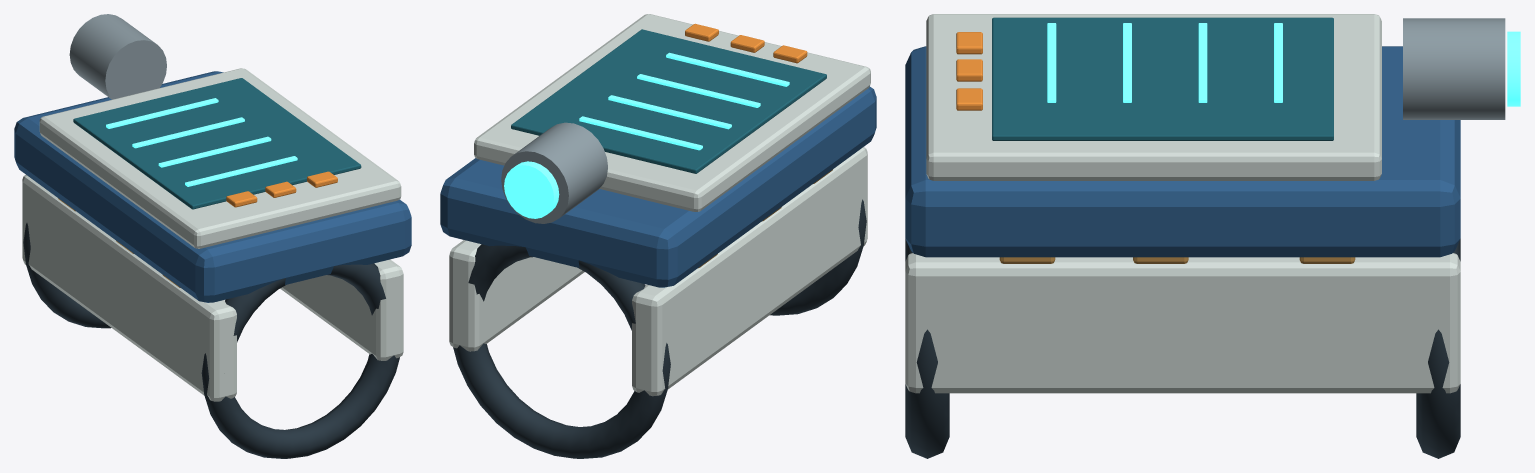
File: giltza_hack_tool.glb
The picture shows the model from 3 angles, left to right: view 1: azimuth 30°, elevation 25°; view 2: azimuth 150°, elevation 25°; view 3: azimuth 270°, elevation 25°; orthographic projection. The views are drawn at different scales.
Parts seen in each view (by area): view 1: giltza_hack_tool_mesh, Console_hinge_mesh; view 2: giltza_hack_tool_mesh, Console_hinge_mesh; view 3: giltza_hack_tool_mesh, Console_hinge_mesh.
Part boxes in pixels (<box>): giltza_hack_tool_mesh: <box>14,14,411,458</box>; Console_hinge_mesh: <box>39,68,401,248</box>; giltza_hack_tool_mesh: <box>440,86,876,458</box>; Console_hinge_mesh: <box>474,14,870,211</box>; giltza_hack_tool_mesh: <box>905,18,1520,458</box>; Console_hinge_mesh: <box>926,14,1381,180</box>.
Size of the model in its own units: 0.16 by 0.209 by 0.277.
